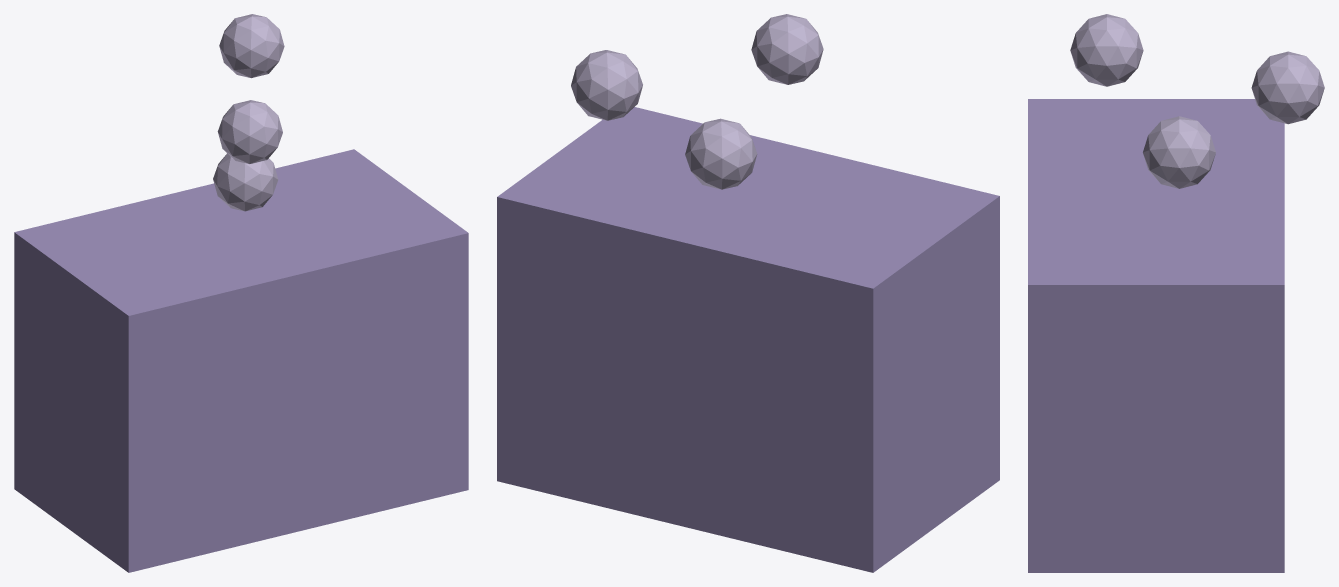
The model's file is shadow_light_wraith.glb.
3 renders of one model, left to right at view 1: azimuth 30°, elevation 25°; view 2: azimuth 150°, elevation 25°; view 3: azimuth 270°, elevation 25°, orthographic. The views are drawn at different scales.
Visible parts, largest first — view 1: geometry_0; view 2: geometry_0; view 3: geometry_0.
Boxes of the visible parts, box(x1,y1,x2,y2) form: geometry_0: box(14, 14, 468, 572); geometry_0: box(497, 14, 999, 572); geometry_0: box(1028, 14, 1324, 572).
Size of the model in its own units: 0.72 by 0.8362 by 0.4855.
